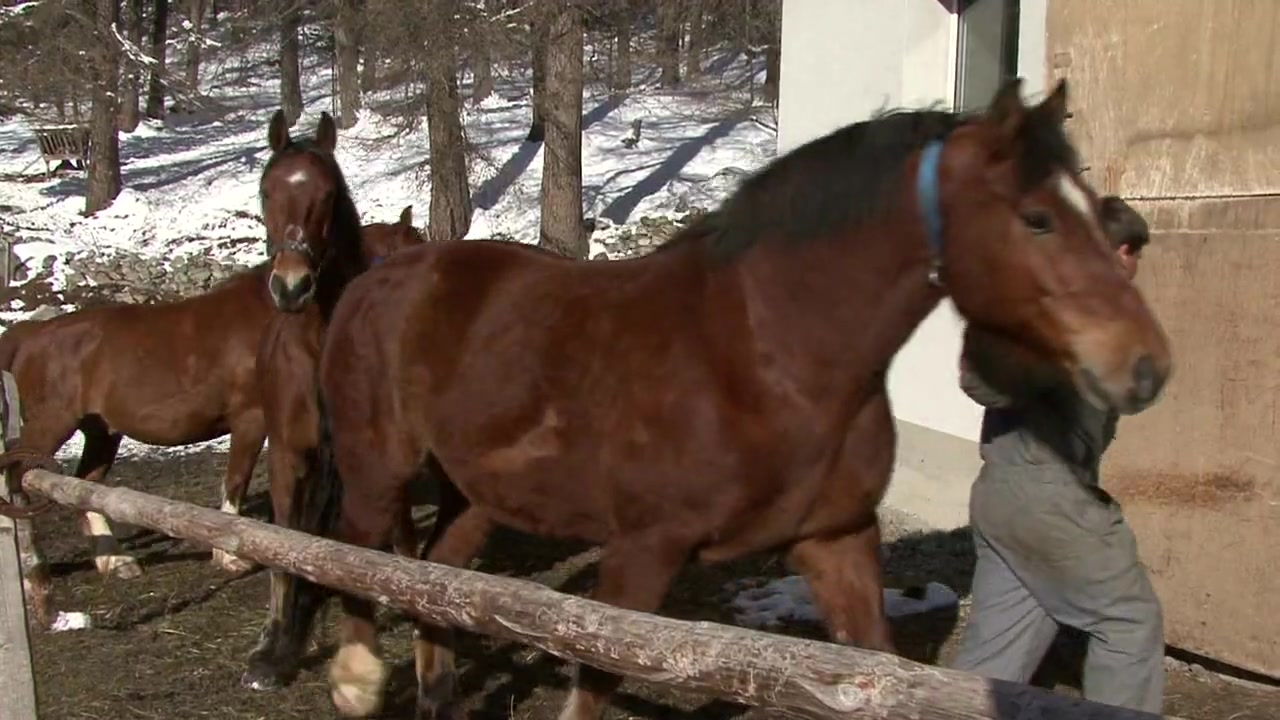horse: (320, 76, 1176, 720)
